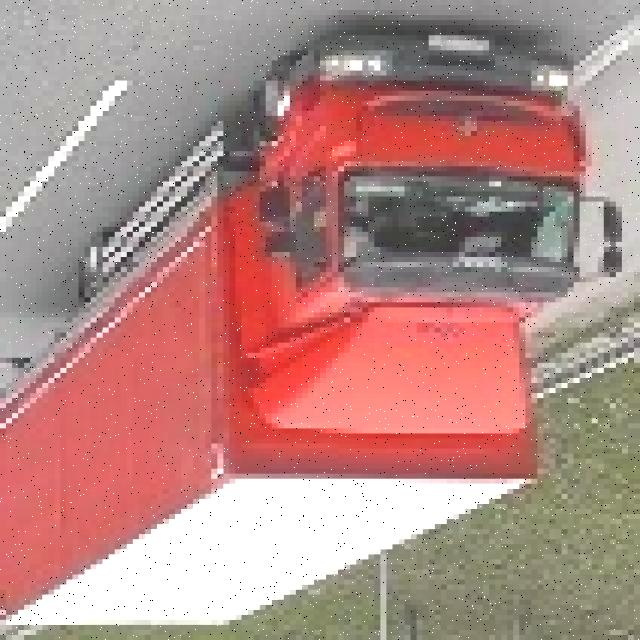truck: (0, 35, 616, 630)
